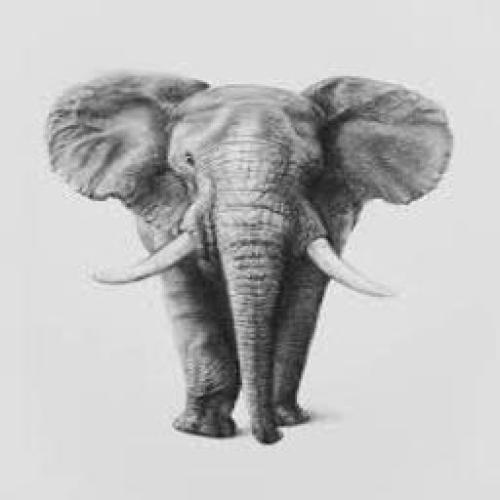african_elephant-endangered: (48, 71, 453, 428)
